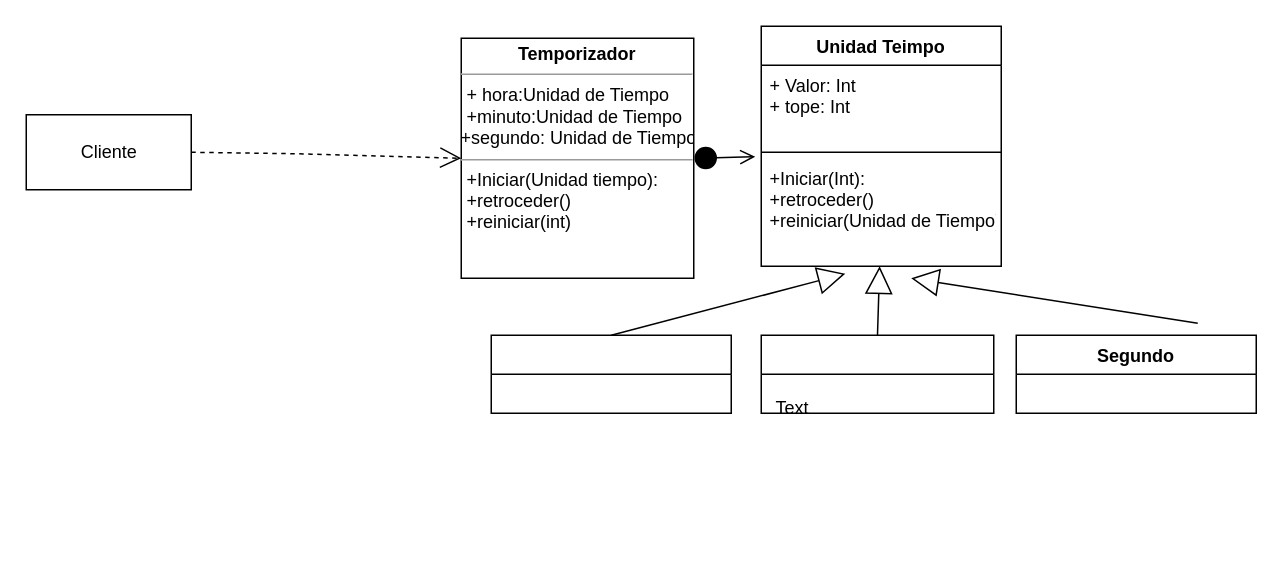
Image size: 1283x588. Some labels were removed from this diagram. Here are the shapes that lost their labels. From the top down, the box of each, then its label:
(490, 334, 731, 413): Hora
(760, 334, 994, 413): Minuto
